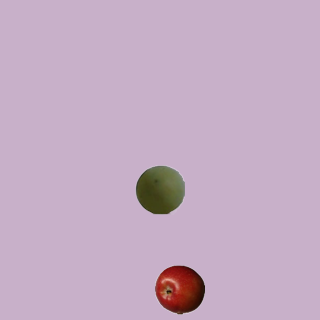Apple Braeburn: (154, 264, 204, 314)
Grape White 4: (134, 164, 184, 214)
